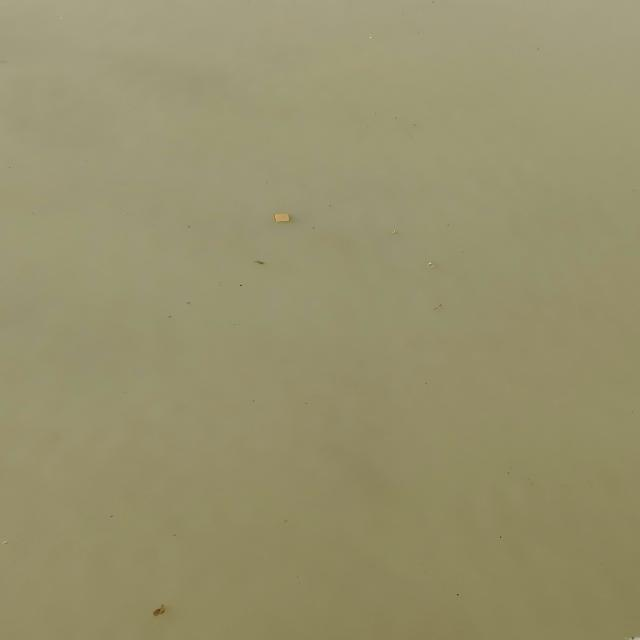Metal: (252, 258, 266, 266)
Organic Debris: (151, 602, 168, 618), (432, 303, 444, 311), (185, 301, 193, 305), (390, 230, 398, 234), (455, 592, 462, 596), (411, 123, 418, 127), (497, 535, 503, 539), (506, 472, 511, 476), (328, 203, 333, 207), (264, 181, 269, 185), (168, 314, 172, 319), (393, 116, 398, 120), (172, 534, 178, 537), (424, 380, 428, 384), (311, 227, 316, 230), (232, 323, 237, 326), (108, 516, 114, 518), (217, 282, 223, 284), (374, 112, 378, 115), (252, 399, 255, 402), (304, 402, 308, 404), (239, 284, 243, 286), (187, 226, 191, 228), (447, 224, 451, 226), (462, 252, 465, 254), (427, 386, 429, 388)
Plastic: (273, 212, 293, 224), (426, 261, 436, 269), (368, 36, 372, 39)
